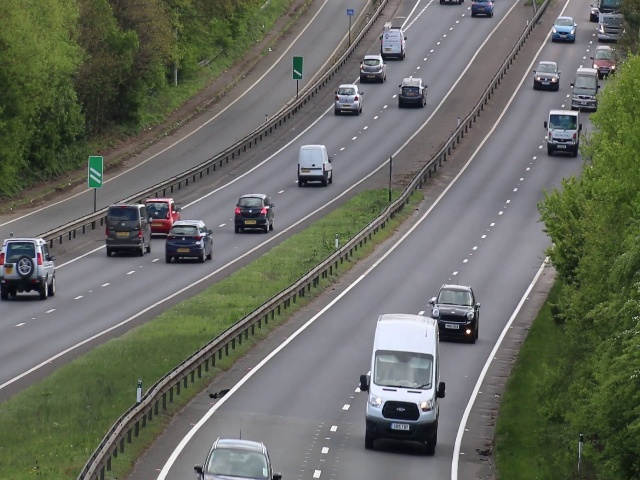car: (365, 346, 441, 459), (1, 234, 55, 304), (196, 444, 279, 480), (102, 203, 153, 257), (435, 285, 476, 345), (164, 218, 213, 267), (296, 142, 333, 189), (542, 109, 578, 157), (234, 194, 276, 233), (148, 196, 180, 232), (397, 75, 429, 108), (335, 82, 363, 117), (381, 26, 407, 61), (532, 59, 559, 90), (573, 74, 595, 111), (359, 54, 387, 83), (552, 14, 576, 45), (594, 45, 614, 76)
